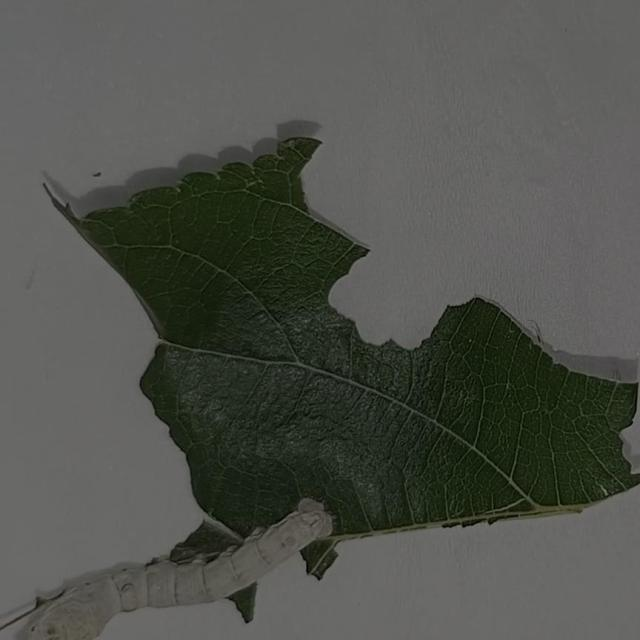Healthy: (9, 489, 375, 640)
